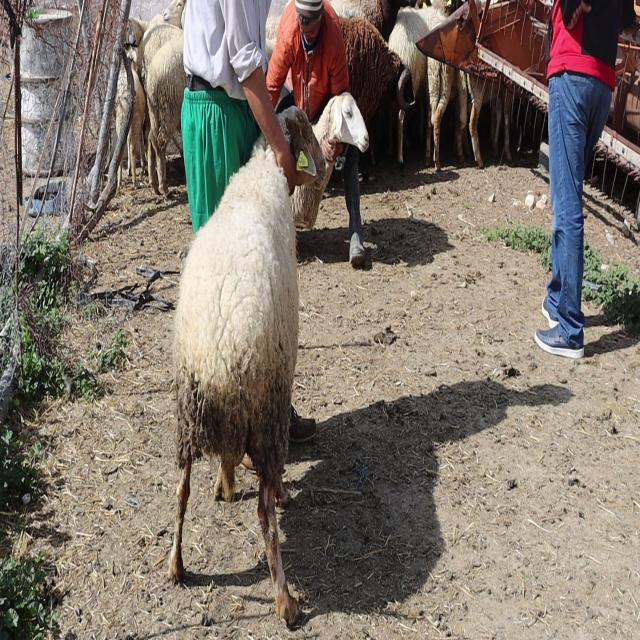Score_5: (168, 146, 299, 626)
